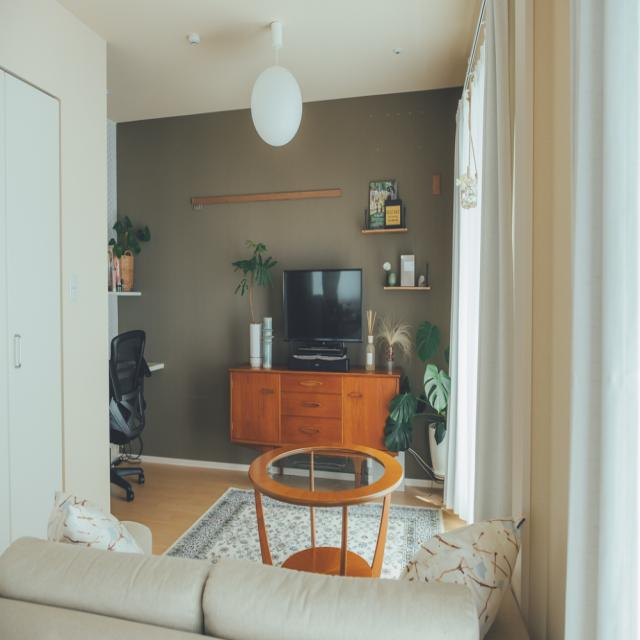vintage desk: (238, 434, 414, 585)
vintage shelf: (212, 366, 422, 491)
